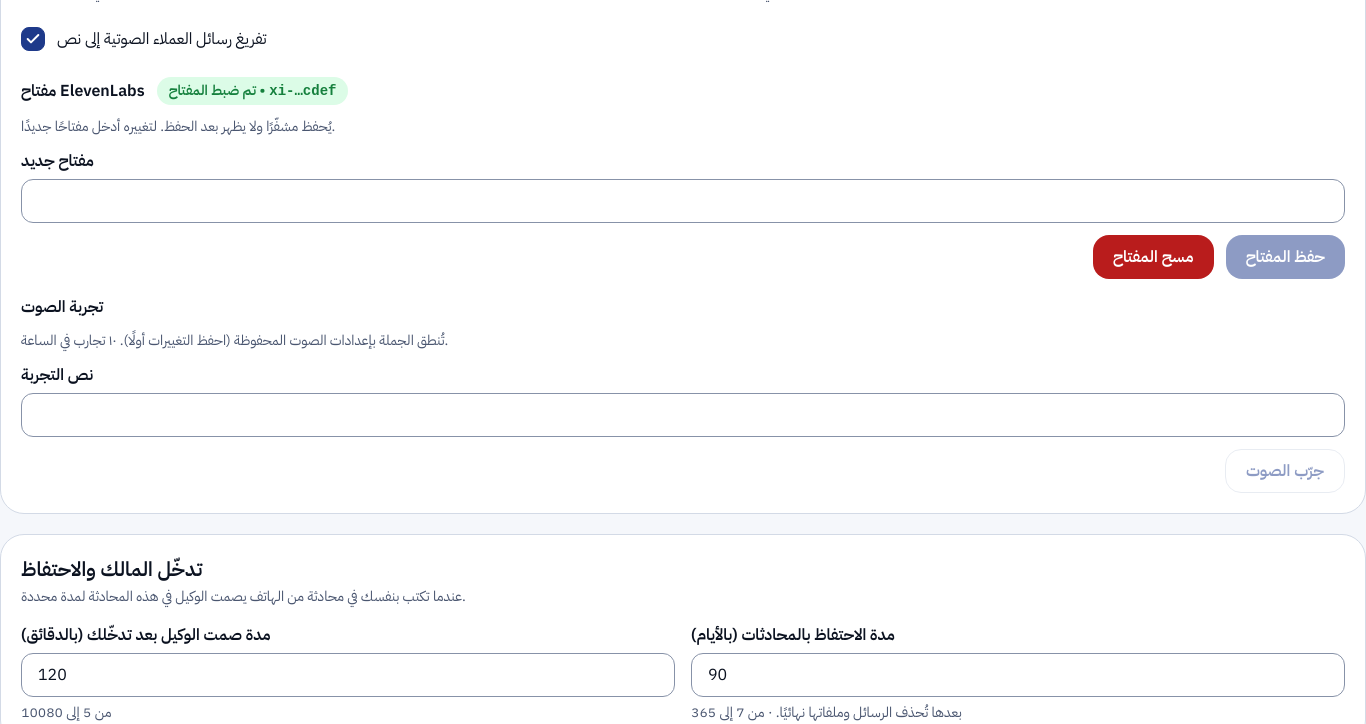
Test: the Settings tab › a failed voice test › shows the specific reason voice_not_found and no reference
This screenshot has width=1366, height=724.
(page scrolled)
In the field labelled "نص التجربة": (683, 415) [21,393,1345,437], type "hi"
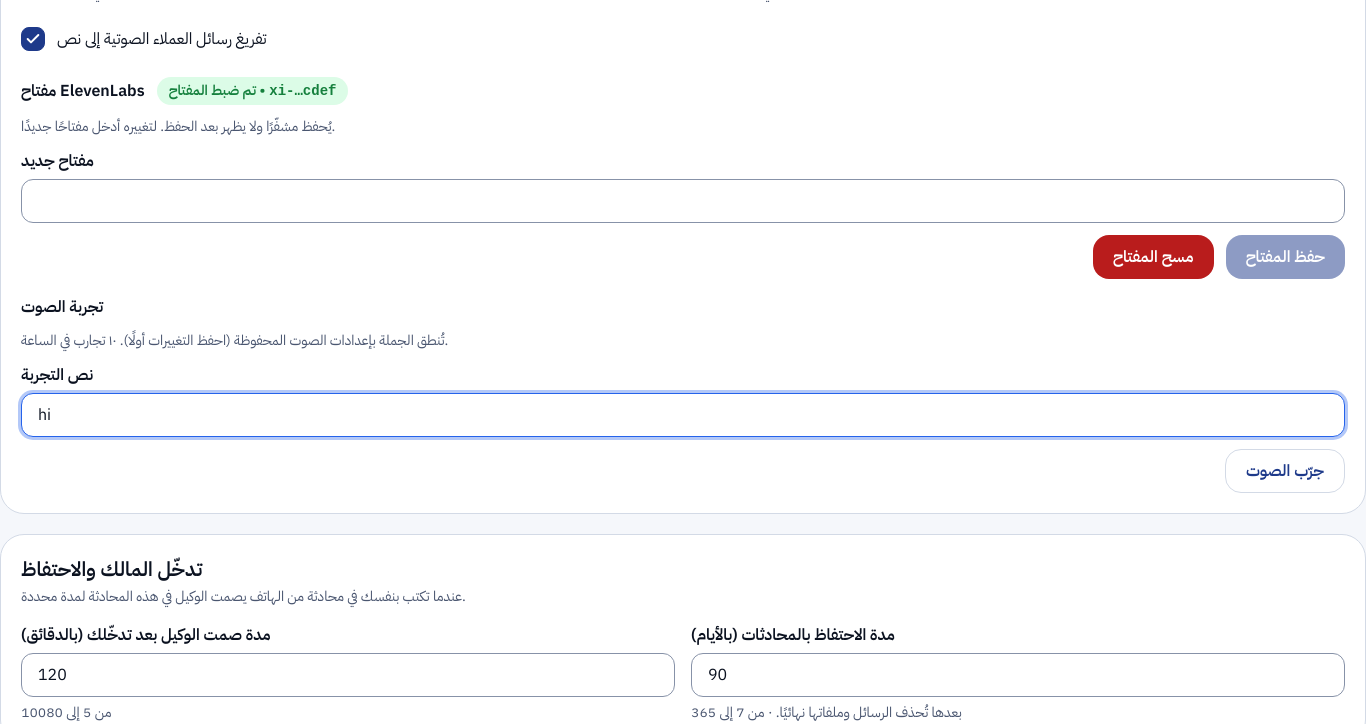
Click the button "جرّب الصوت": (1285, 471) [1225,449,1345,493]
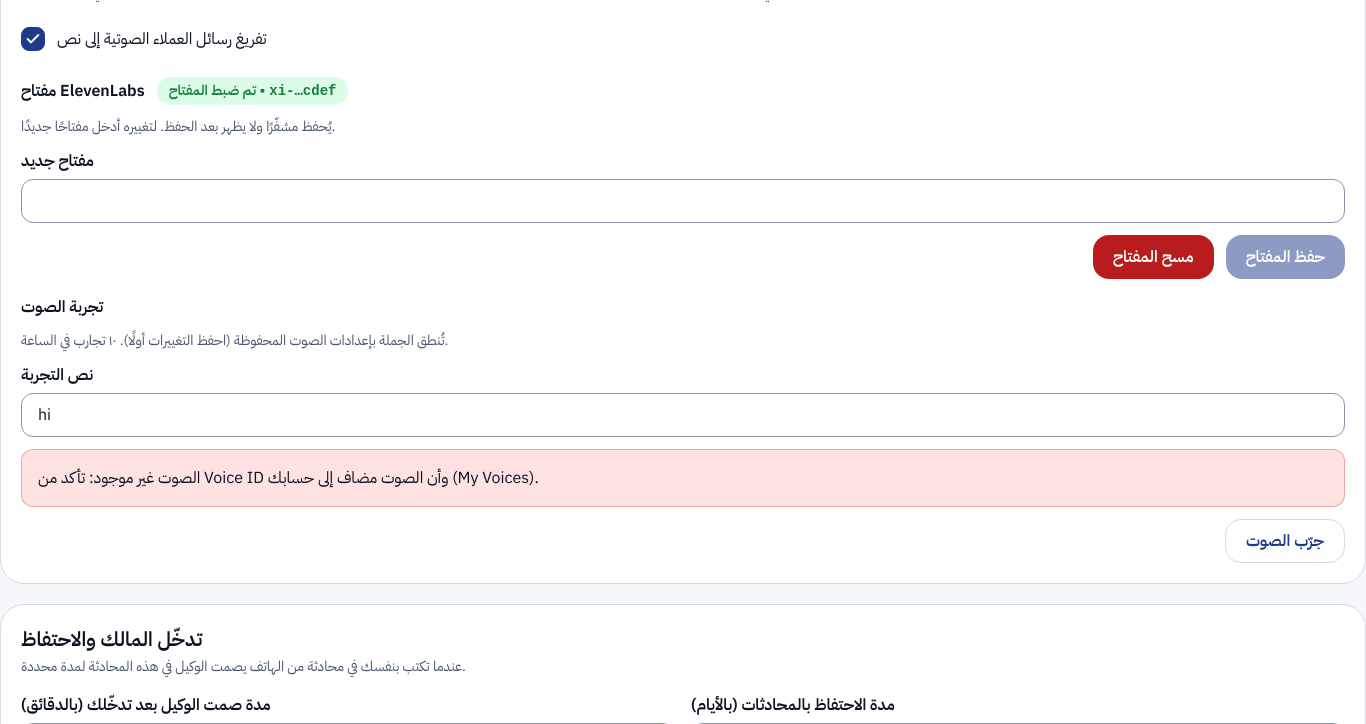
Expected: the message reads "الصوت غير موجود: تأكد من Voice ID وأن الصوت مضاف إلى حسابك (My Voices).", [38,466,539,490]
